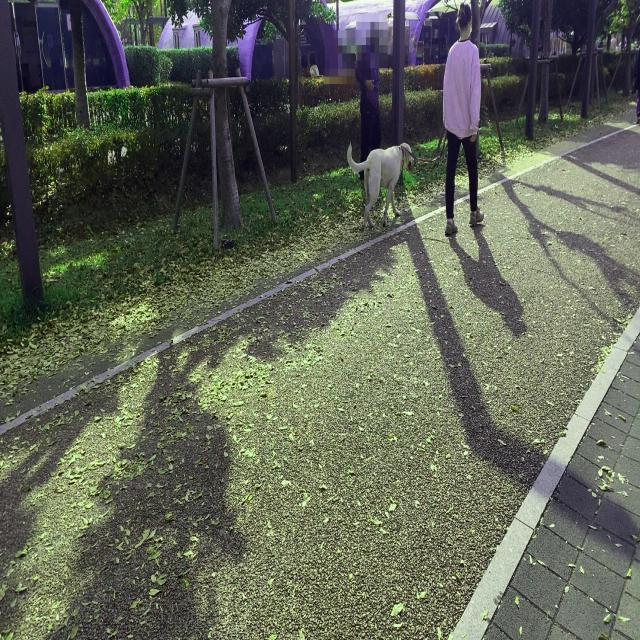Leashed_Dog: (347, 134, 456, 233)
